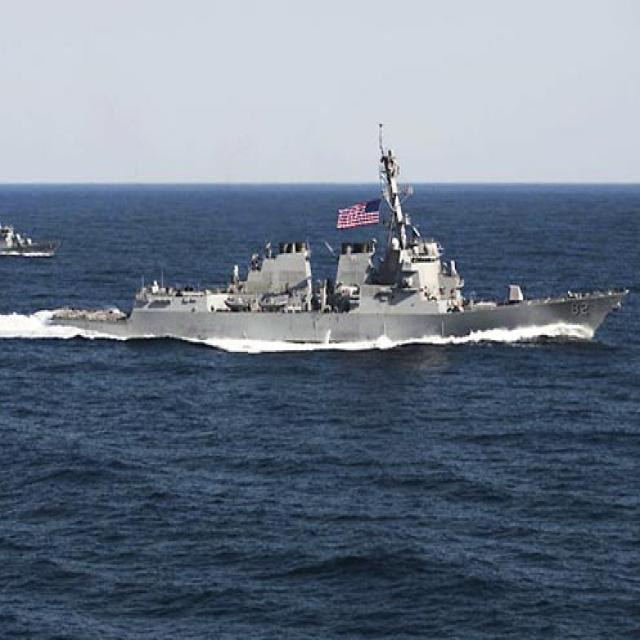navalvessels: (45, 130, 638, 368)
